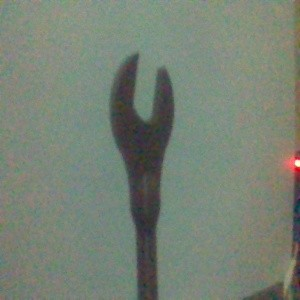spanner: (108, 50, 176, 300)
